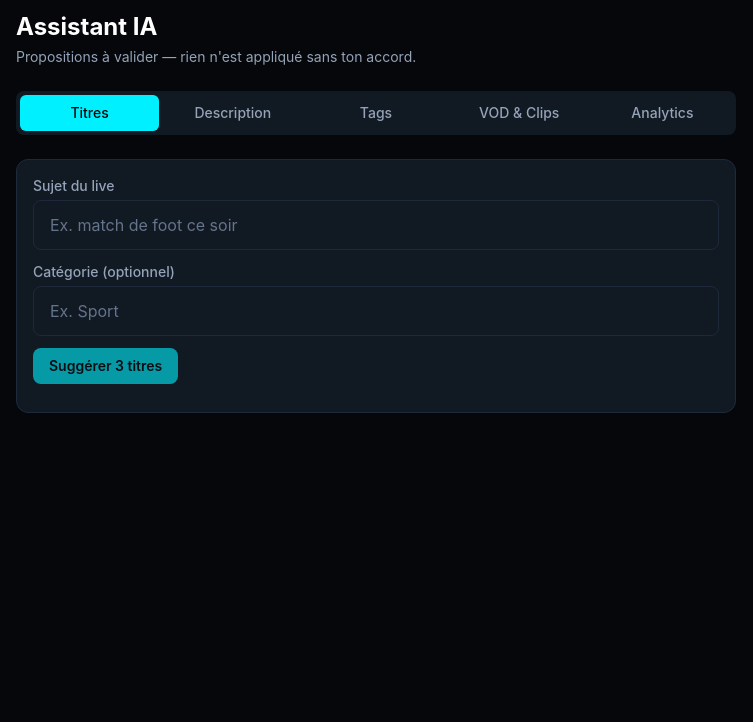
Scenario: CreatorAI › titres → suggestions affichées
Type "match de foot" into the field labelled "Sujet du live".
click(376, 225); type("match de foot")  # box [33,200,719,250]
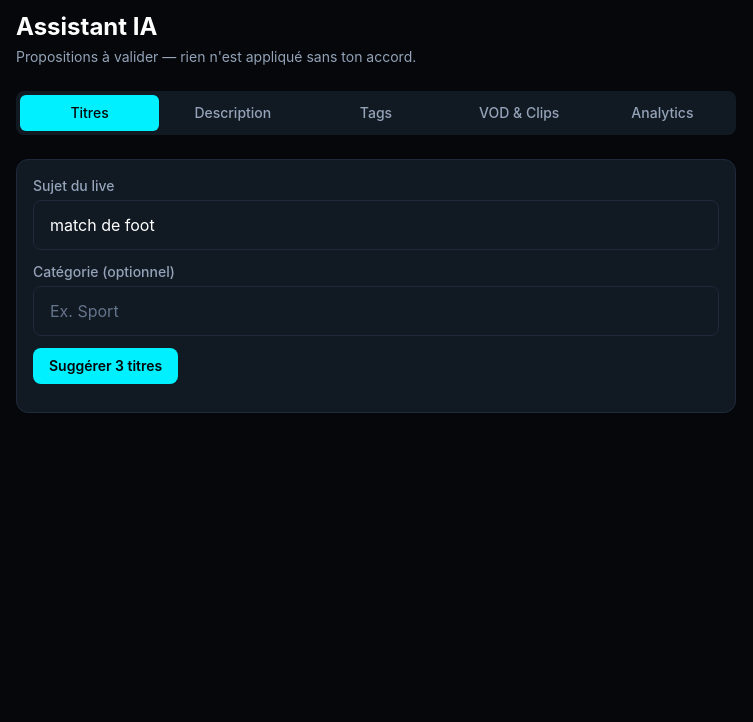
Click the button "Suggérer 3 titres".
click(106, 366)  # box [33,348,178,384]
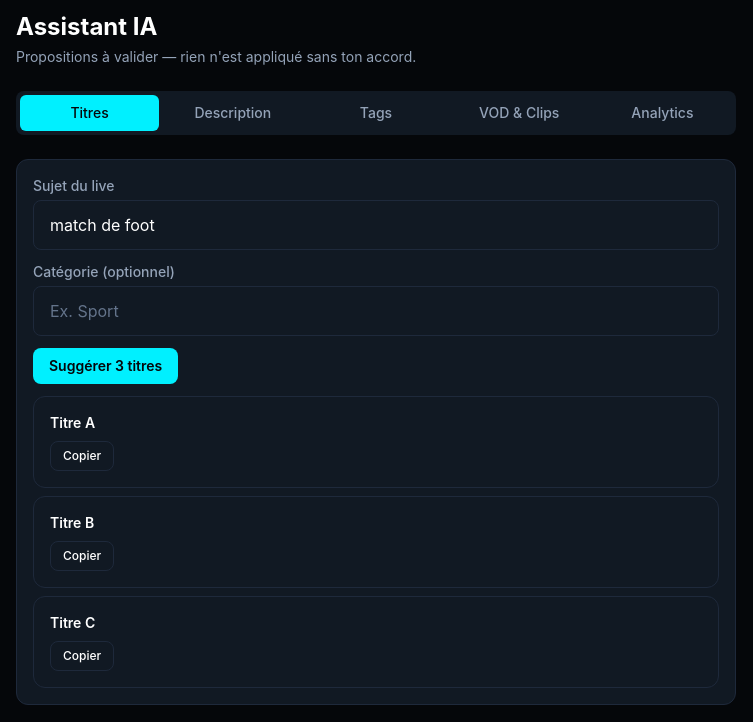
Now the text "Titre A" is shown, box [50,414,95,431]
